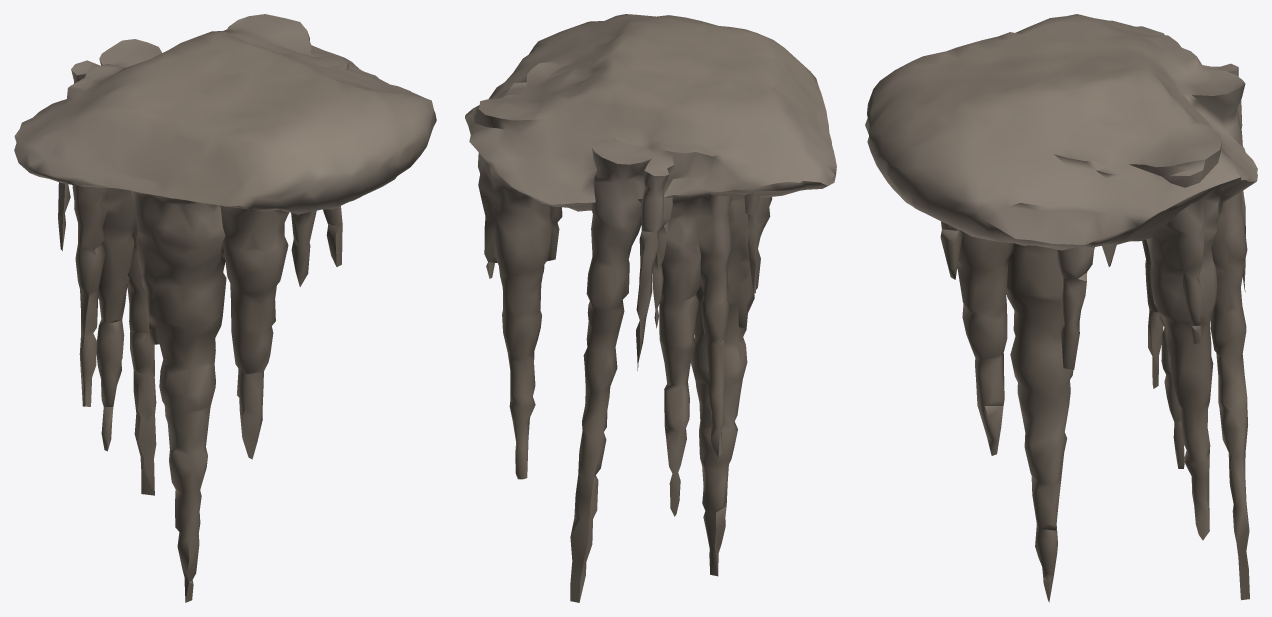
Rendered from stalactite_cluster_a.36deb6c1.glb.
The picture shows the model from 3 angles, left to right: view 1: azimuth 30°, elevation 25°; view 2: azimuth 150°, elevation 25°; view 3: azimuth 270°, elevation 25°; orthographic projection. The views are drawn at different scales.
Visible parts, largest first — view 1: stalactite_cluster_a; view 2: stalactite_cluster_a; view 3: stalactite_cluster_a.
Part boxes in pixels (box(x1,y1,x2,y2)): stalactite_cluster_a: box(14, 14, 436, 602); stalactite_cluster_a: box(465, 14, 836, 602); stalactite_cluster_a: box(865, 14, 1257, 602).
Bounding box in the file's own units: 1.06 × 1.45 × 0.912.
